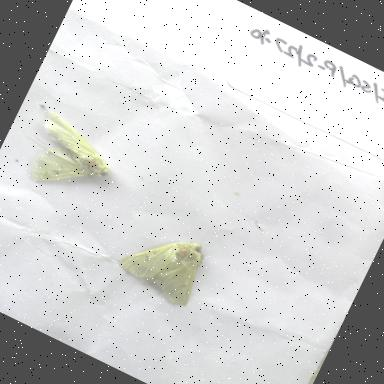abw: (7, 102, 132, 216), (106, 209, 227, 318)
